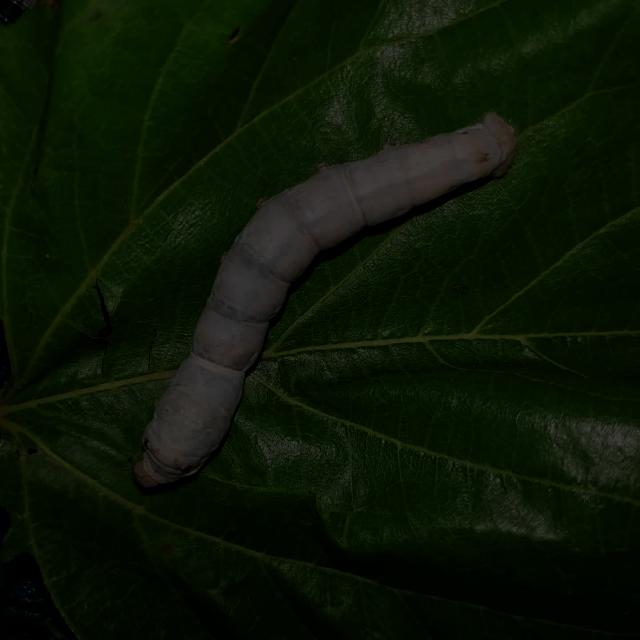Healthy: (119, 105, 520, 502)
